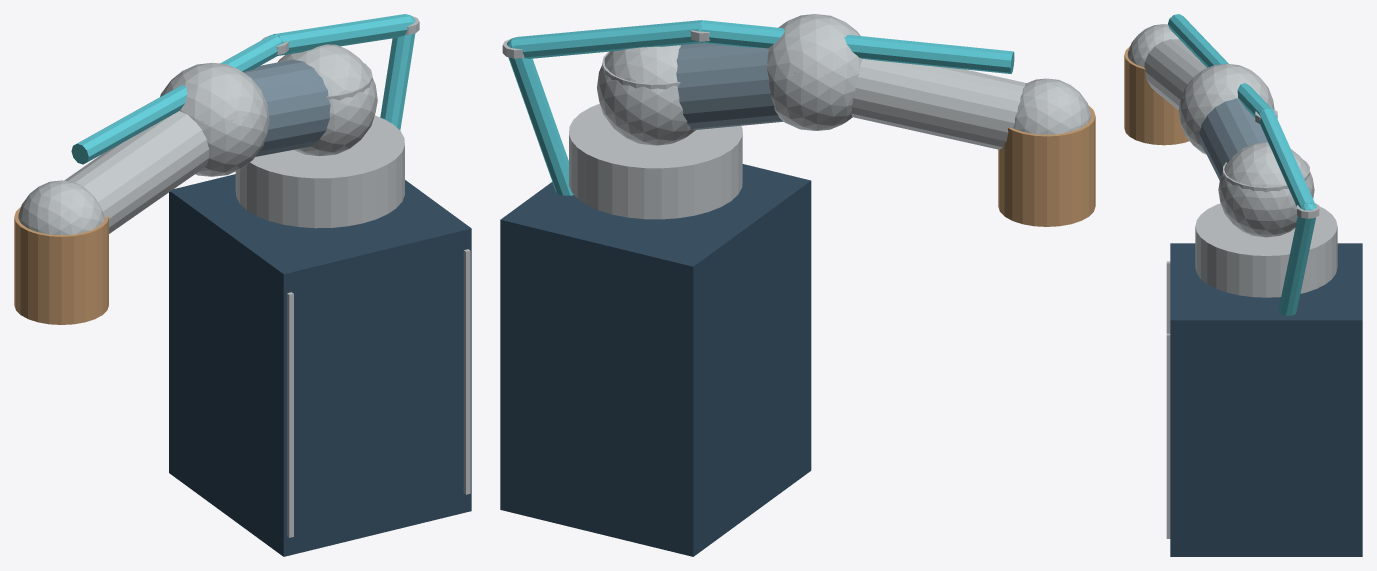
The model's file is 23_L73_PadConditioningSwingArm.glb.
The picture shows the model from 3 angles, left to right: view 1: azimuth 30°, elevation 25°; view 2: azimuth 150°, elevation 25°; view 3: azimuth 270°, elevation 25°; orthographic projection. The views are drawn at different scales.
Visible parts, largest first — view 1: PadConditioningSwingArm_Node_0000, PadConditioningSwingArm_Node_0007, PadConditioningSwingArm_Node_0014, PadConditioningSwingArm_Node_0011, PadConditioningSwingArm_Node_0010, PadConditioningSwingArm_Node_0008, PadConditioningSwingArm_Node_0009, PadConditioningSwingArm_Node_0021, PadConditioningSwingArm_Node_0013, PadConditioningSwingArm_Node_0020, PadConditioningSwingArm_Node_0019, PadConditioningSwingArm_Node_0006 (+1 smaller); view 2: PadConditioningSwingArm_Node_0000, PadConditioningSwingArm_Node_0007, PadConditioningSwingArm_Node_0011, PadConditioningSwingArm_Node_0014, PadConditioningSwingArm_Node_0010, PadConditioningSwingArm_Node_0008, PadConditioningSwingArm_Node_0009, PadConditioningSwingArm_Node_0021, PadConditioningSwingArm_Node_0020, PadConditioningSwingArm_Node_0013, PadConditioningSwingArm_Node_0019; view 3: PadConditioningSwingArm_Node_0000, PadConditioningSwingArm_Node_0007, PadConditioningSwingArm_Node_0009, PadConditioningSwingArm_Node_0010, PadConditioningSwingArm_Node_0014, PadConditioningSwingArm_Node_0008, PadConditioningSwingArm_Node_0011, PadConditioningSwingArm_Node_0020, PadConditioningSwingArm_Node_0019, PadConditioningSwingArm_Node_0021, PadConditioningSwingArm_Node_0013, PadConditioningSwingArm_Node_0006 (+2 smaller).
Part boxes in pixels (bbox=[...]): PadConditioningSwingArm_Node_0000: bbox=[169, 174, 471, 556]; PadConditioningSwingArm_Node_0007: bbox=[235, 115, 404, 228]; PadConditioningSwingArm_Node_0014: bbox=[14, 207, 108, 324]; PadConditioningSwingArm_Node_0011: bbox=[64, 111, 209, 233]; PadConditioningSwingArm_Node_0010: bbox=[160, 62, 269, 176]; PadConditioningSwingArm_Node_0008: bbox=[243, 59, 330, 156]; PadConditioningSwingArm_Node_0009: bbox=[278, 44, 377, 156]; PadConditioningSwingArm_Node_0021: bbox=[71, 35, 282, 164]; PadConditioningSwingArm_Node_0013: bbox=[18, 180, 104, 234]; PadConditioningSwingArm_Node_0020: bbox=[273, 14, 413, 55]; PadConditioningSwingArm_Node_0019: bbox=[380, 33, 415, 130]; PadConditioningSwingArm_Node_0006: bbox=[463, 249, 470, 494]; PadConditioningSwingArm_Node_0000: bbox=[500, 164, 811, 556]; PadConditioningSwingArm_Node_0007: bbox=[569, 103, 742, 219]; PadConditioningSwingArm_Node_0011: bbox=[851, 59, 1026, 149]; PadConditioningSwingArm_Node_0014: bbox=[998, 106, 1095, 226]; PadConditioningSwingArm_Node_0010: bbox=[767, 14, 862, 130]; PadConditioningSwingArm_Node_0008: bbox=[676, 43, 783, 129]; PadConditioningSwingArm_Node_0009: bbox=[597, 45, 695, 145]; PadConditioningSwingArm_Node_0021: bbox=[701, 20, 1014, 73]; PadConditioningSwingArm_Node_0020: bbox=[513, 20, 701, 58]; PadConditioningSwingArm_Node_0013: bbox=[1013, 78, 1091, 134]; PadConditioningSwingArm_Node_0019: bbox=[508, 57, 573, 195]; PadConditioningSwingArm_Node_0000: bbox=[1170, 243, 1362, 556]; PadConditioningSwingArm_Node_0007: bbox=[1195, 203, 1337, 297]; PadConditioningSwingArm_Node_0009: bbox=[1218, 142, 1314, 237]; PadConditioningSwingArm_Node_0010: bbox=[1178, 63, 1274, 154]; PadConditioningSwingArm_Node_0014: bbox=[1124, 46, 1189, 145]; PadConditioningSwingArm_Node_0008: bbox=[1199, 98, 1267, 180]; PadConditioningSwingArm_Node_0011: bbox=[1144, 39, 1206, 109]; PadConditioningSwingArm_Node_0020: bbox=[1259, 109, 1315, 207]; PadConditioningSwingArm_Node_0019: bbox=[1278, 216, 1315, 315]; PadConditioningSwingArm_Node_0021: bbox=[1168, 14, 1273, 117]; PadConditioningSwingArm_Node_0013: bbox=[1127, 24, 1179, 67]; PadConditioningSwingArm_Node_0006: bbox=[1166, 333, 1170, 538].
Size of the model in its own units: 2.24 by 2.1 by 1.14.
